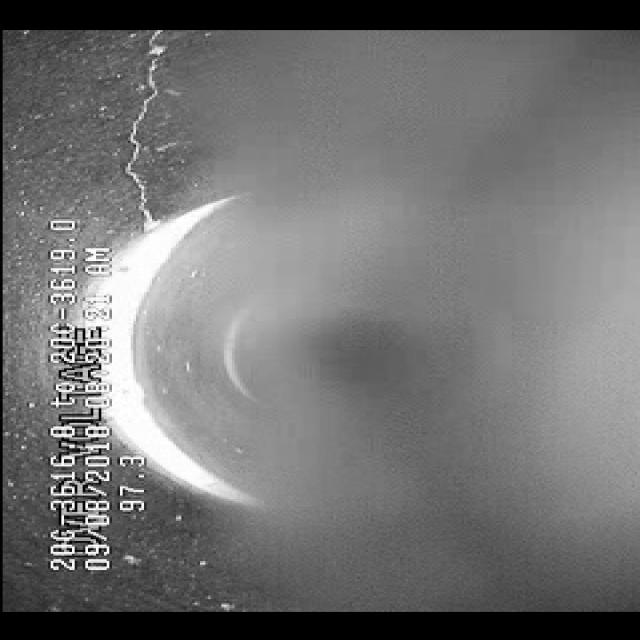Crack: (100, 60, 171, 219)
